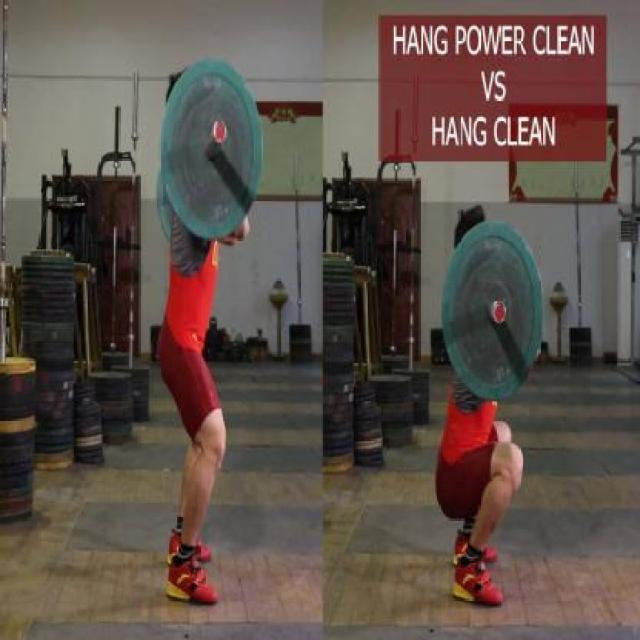Barbell: (211, 115, 231, 146), (492, 296, 508, 326)
